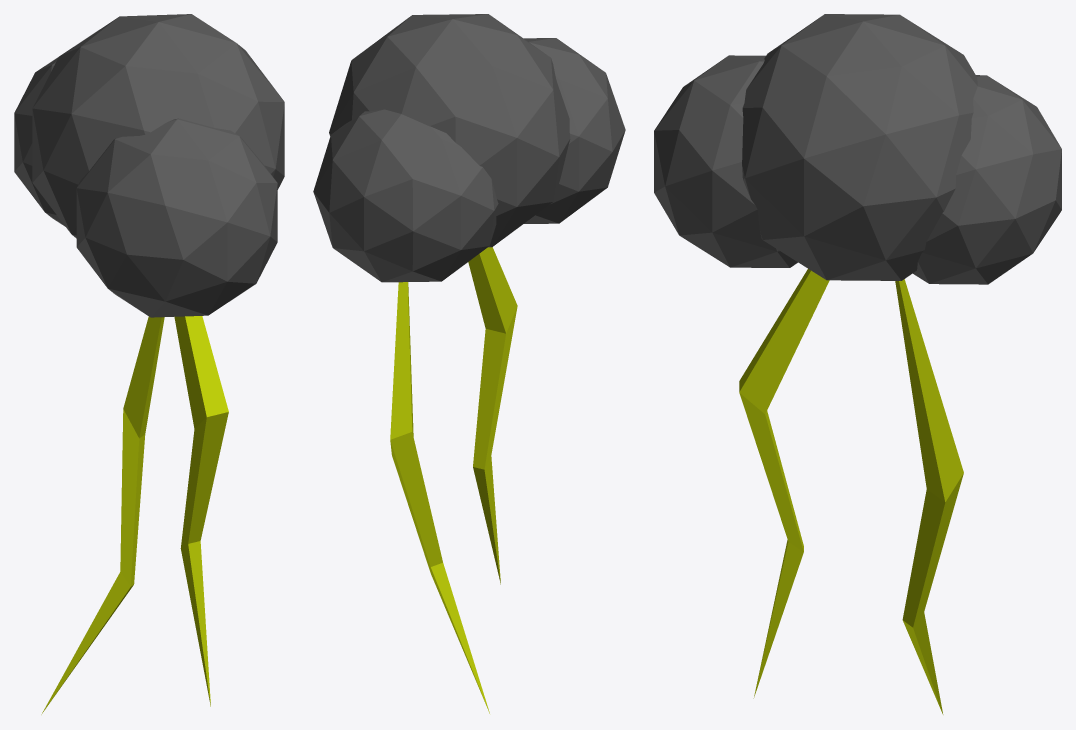
File: Ab_StormyCloud_A.FBX
The picture shows the model from 3 angles, left to right: view 1: azimuth 30°, elevation 25°; view 2: azimuth 150°, elevation 25°; view 3: azimuth 270°, elevation 25°; orthographic projection. The views are drawn at different scales.
Visible parts, largest first — view 1: GeoSphere002, GeoSphere001, Box001, Box002, GeoSphere003; view 2: GeoSphere001, GeoSphere003, GeoSphere002, Box001, Box002; view 3: GeoSphere001, GeoSphere003, GeoSphere002, Box002, Box001.
Part boxes in pixels (x1=…): GeoSphere002: x1=76, y1=118, x2=277, y2=317; GeoSphere001: x1=32, y1=14, x2=284, y2=238; Box001: x1=174, y1=316, x2=228, y2=706; Box002: x1=41, y1=316, x2=164, y2=714; GeoSphere003: x1=14, y1=57, x2=65, y2=226; GeoSphere001: x1=329, y1=14, x2=570, y2=247; GeoSphere003: x1=313, y1=109, x2=498, y2=282; GeoSphere002: x1=524, y1=38, x2=625, y2=223; Box001: x1=468, y1=247, x2=517, y2=584; Box002: x1=390, y1=282, x2=489, y2=713; GeoSphere001: x1=742, y1=14, x2=977, y2=280; GeoSphere003: x1=913, y1=75, x2=1061, y2=284; GeoSphere002: x1=654, y1=55, x2=797, y2=267; Box002: x1=895, y1=279, x2=963, y2=714; Box001: x1=739, y1=269, x2=829, y2=698.
Bounding box in the file's own units: 116 × 326 × 164.
